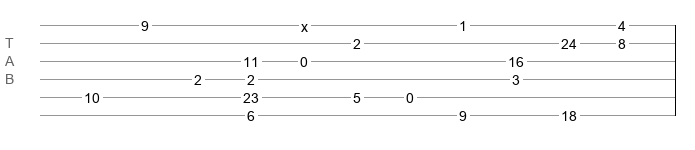0: (300, 54, 308, 64), (406, 90, 414, 100)
1: (459, 18, 467, 28)
10: (84, 90, 100, 100)
11: (243, 54, 259, 64)
16: (508, 54, 524, 64)
18: (561, 108, 577, 118)
2: (194, 72, 202, 82), (247, 72, 255, 82), (353, 36, 361, 46)
23: (243, 90, 259, 100)
24: (561, 36, 577, 46)
3: (512, 72, 520, 82)
4: (618, 18, 626, 28)
5: (353, 90, 361, 100)
6: (247, 108, 255, 118)
8: (618, 36, 626, 46)
9: (141, 18, 149, 28), (459, 108, 467, 118)
x: (301, 19, 308, 27)
